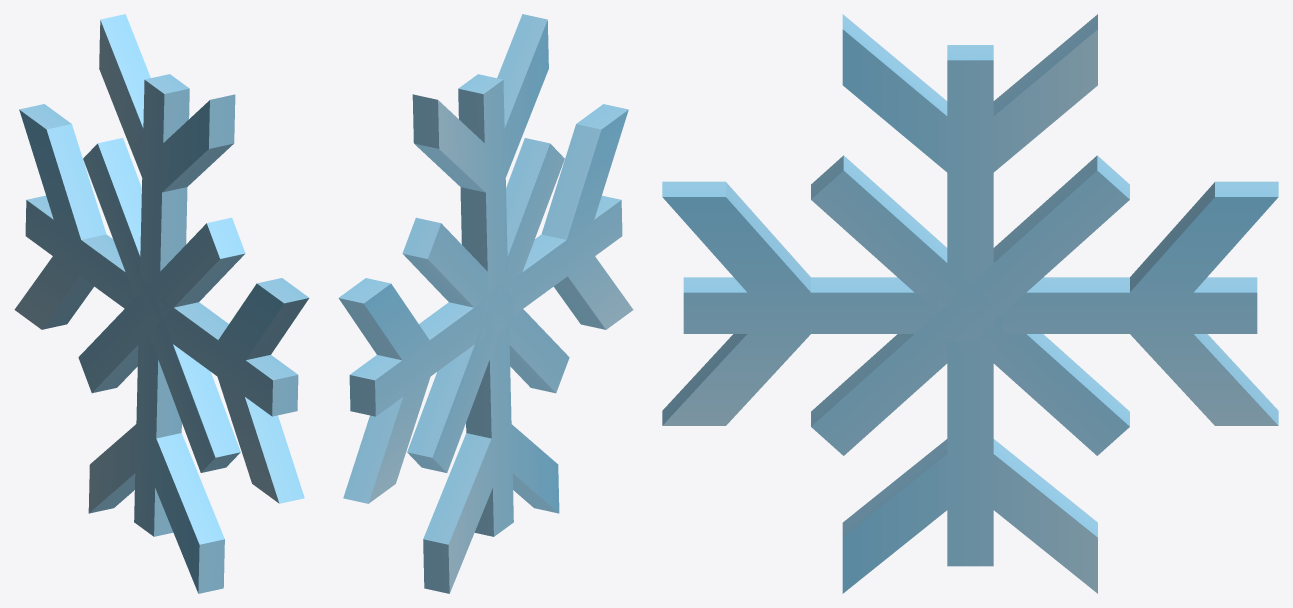
The model's file is flocon 1.fbx.
3 renders of one model, left to right at view 1: azimuth 30°, elevation 25°; view 2: azimuth 150°, elevation 25°; view 3: azimuth 270°, elevation 25°, orthographic. The views are drawn at different scales.
Visible parts, largest first — view 1: Cube, Cube.001, Cube.002, Cube.003; view 2: Cube, Cube.001, Cube.003, Cube.002; view 3: Cube.001, Cube, Cube.002, Cube.003.
Boxes of the visible parts, box(x1,y1,x2,y2) form: Cube: box(88, 14, 235, 593); Cube.001: box(14, 104, 309, 503); Cube.002: box(83, 138, 240, 472); Cube.003: box(78, 217, 245, 393); Cube: box(412, 14, 559, 593); Cube.001: box(338, 104, 633, 503); Cube.003: box(407, 138, 564, 472); Cube.002: box(402, 217, 569, 393); Cube.001: box(662, 181, 1278, 425); Cube: box(842, 14, 1097, 593); Cube.002: box(811, 155, 1129, 455); Cube.003: box(811, 155, 1129, 455).
Size of the model in its own units: 0.0412 by 0.5229 by 0.5107.
Materials: 1 (1 with a texture image).
